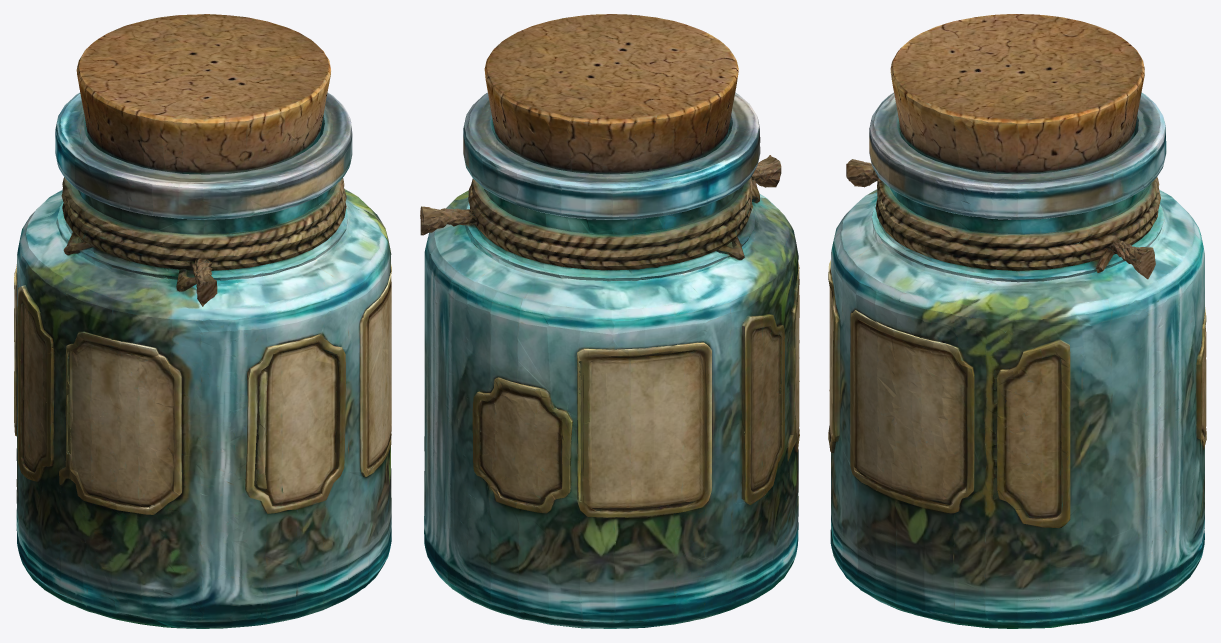
Rendered from jar.glb.
3 views of the same model, side by side, from view 1: azimuth 30°, elevation 25°; view 2: azimuth 150°, elevation 25°; view 3: azimuth 270°, elevation 25° (orthographic).
Size of the model in its own units: 0.7076 by 1 by 0.7042.
1 material, 1 textured.
